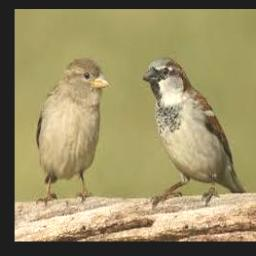Sparrow: (143, 57, 248, 205), (36, 58, 111, 207)
